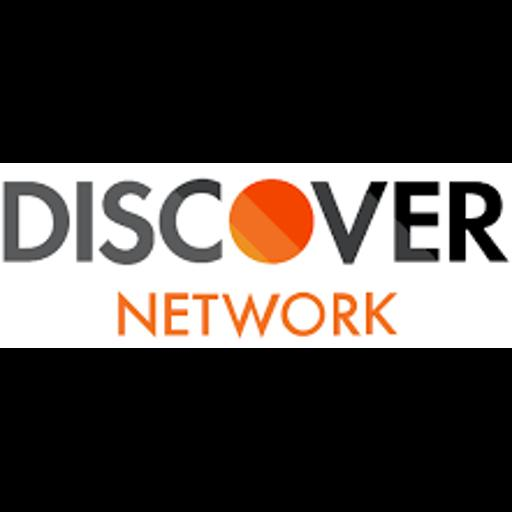Discover: (0, 163, 512, 348)
